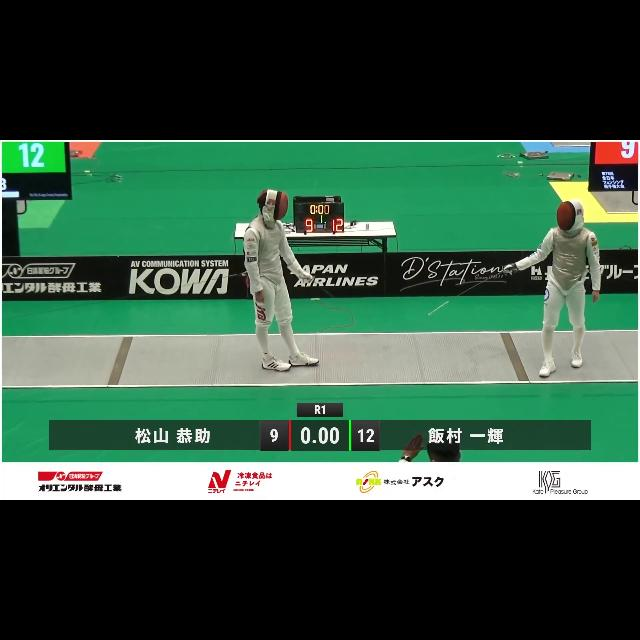blade: (425, 263, 517, 319), (306, 272, 356, 318)
